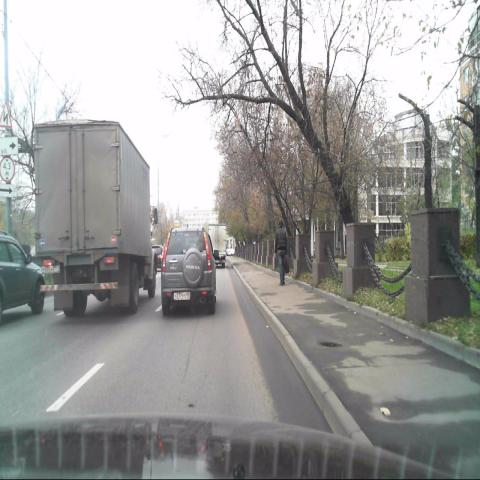1_12_2: (0, 103, 14, 127)
